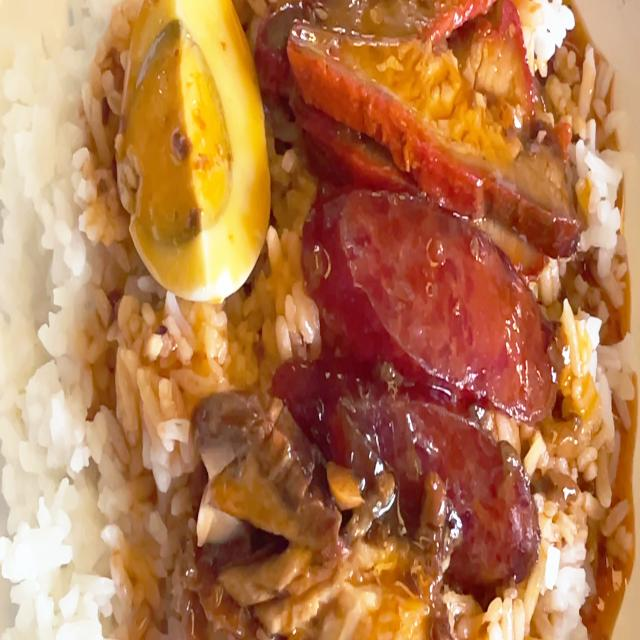boiled_egg: (131, 0, 255, 281)
chainese_sausage: (312, 210, 530, 536)
crispy_pork: (230, 509, 466, 640)
red_pork: (270, 0, 560, 219)
red_pork_and_crispy_pork: (0, 0, 640, 640)
rice: (0, 310, 184, 640), (0, 9, 123, 348), (556, 317, 618, 640)
